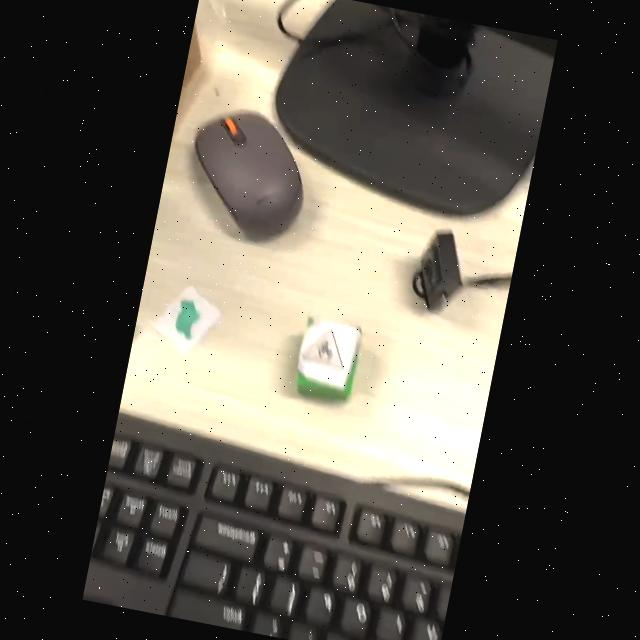Fire: (302, 330, 343, 369)
